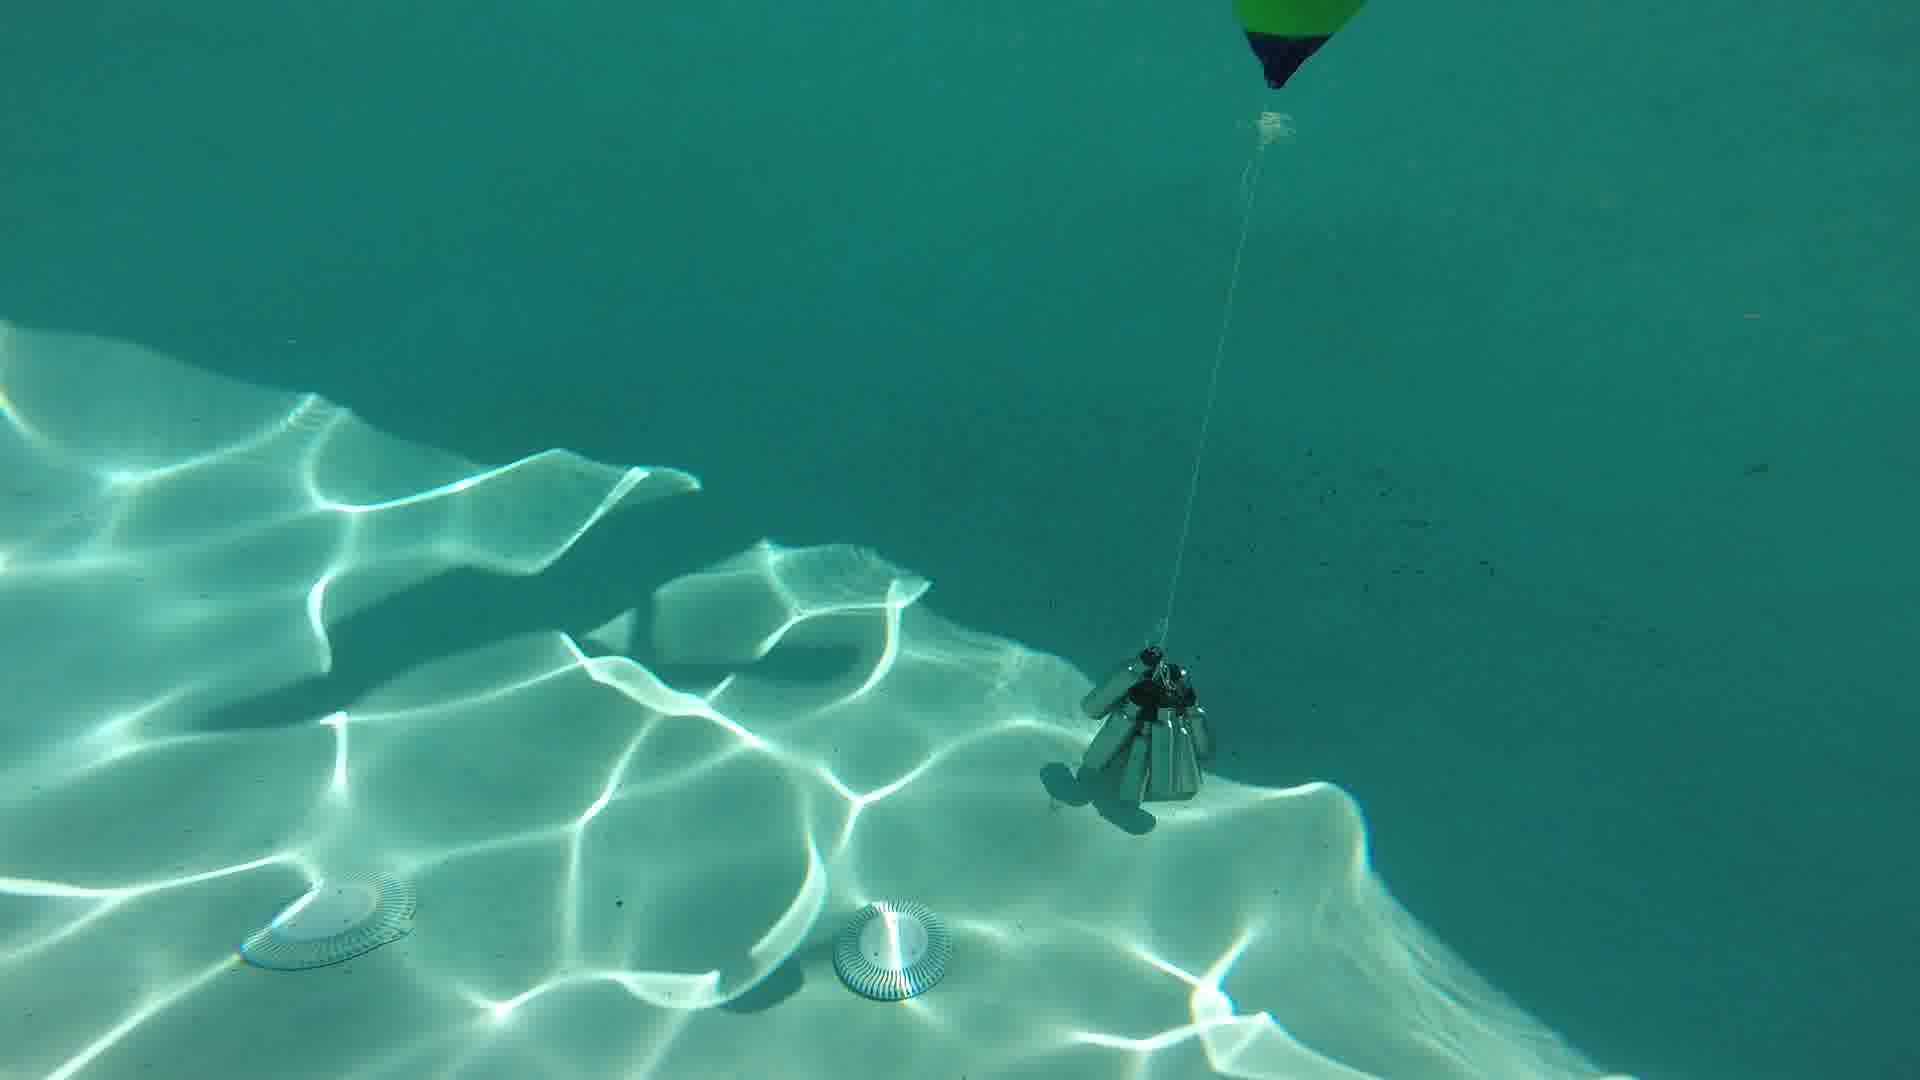yellow_buoy: (1234, 1, 1370, 141)
